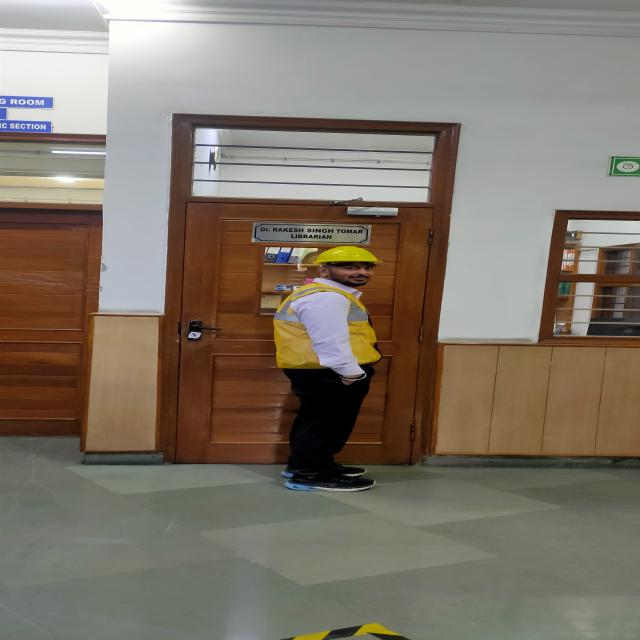unsafe: (276, 246, 383, 491)
